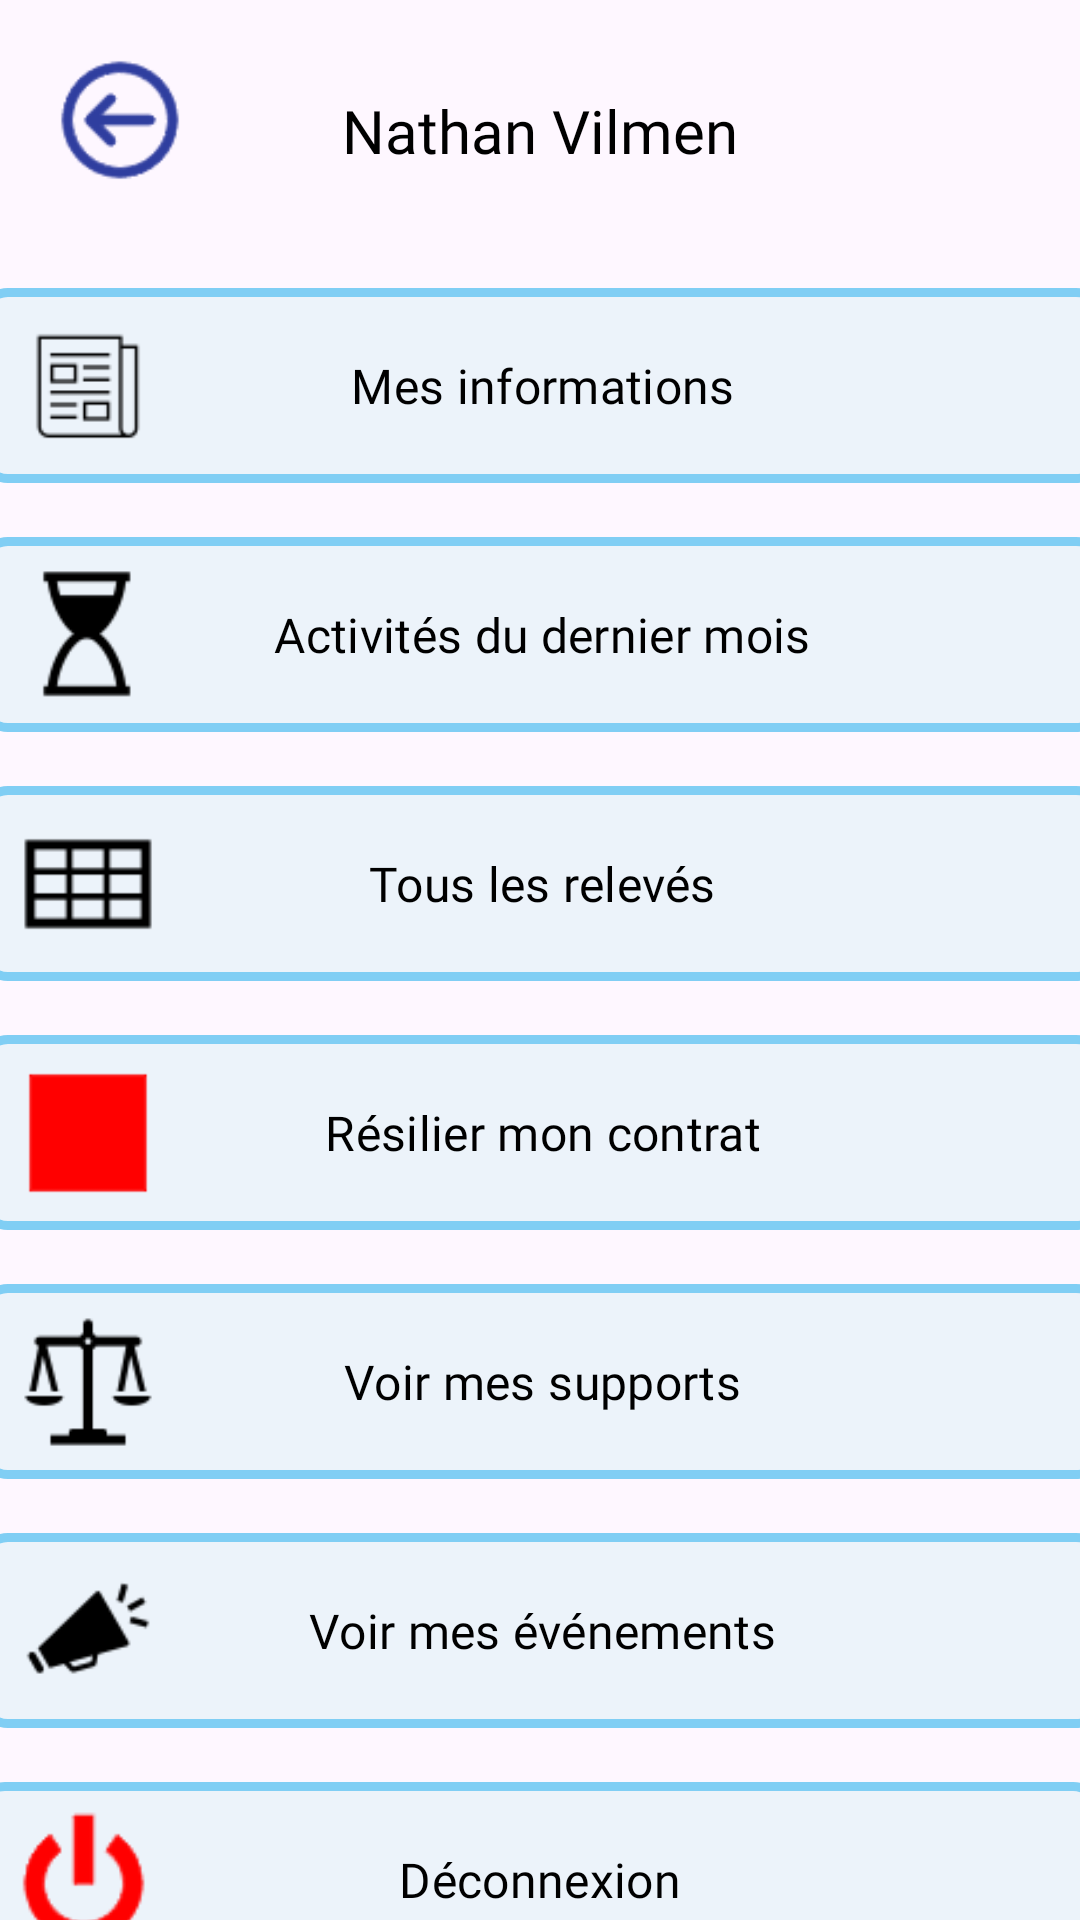

Icons on this 1080px x 1920px Android screen, each with its box as bbox(x1, y1, x2, y2):
balance: bbox(24, 1318, 152, 1446)
evenement: bbox(26, 1583, 150, 1674)
fleche retour: bbox(61, 61, 179, 179)
sablier: bbox(43, 571, 131, 697)
tous les releves: bbox(24, 839, 152, 929)
